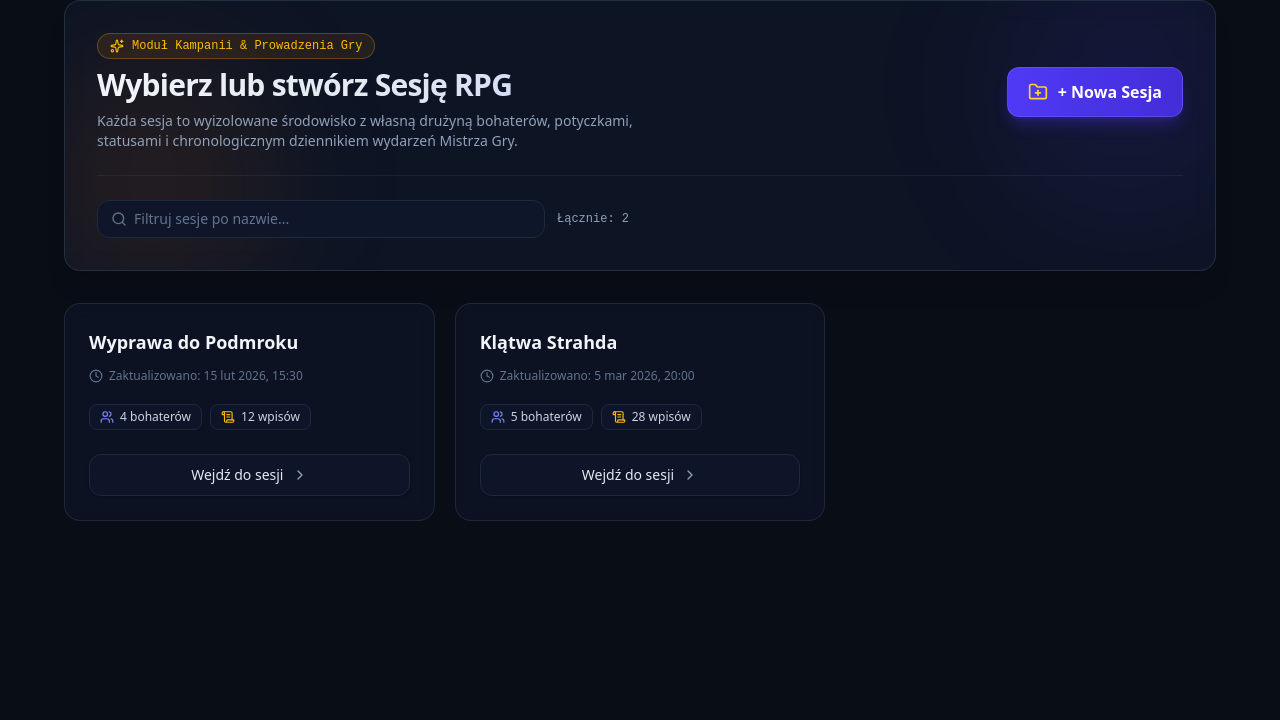
Test: SessionSelection Component (Chunk 1.2) › opens create modal when clicking "+ Nowa Sesja"
Click the button "+ Nowa Sesja" at {"x": 1095, "y": 92}, box [1007,67,1183,117]
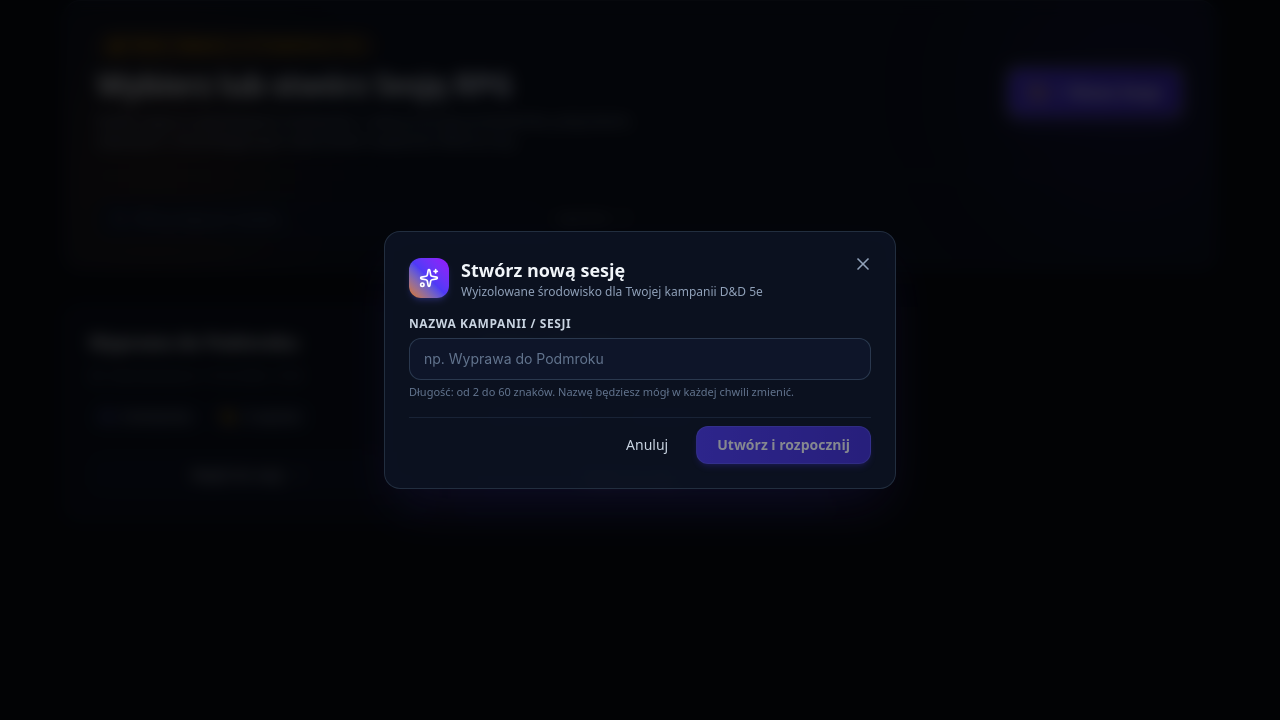
expect the dialog is shown: met
expect the heading "Stwórz nową sesję" is shown: met, box [461,258,625,282]
